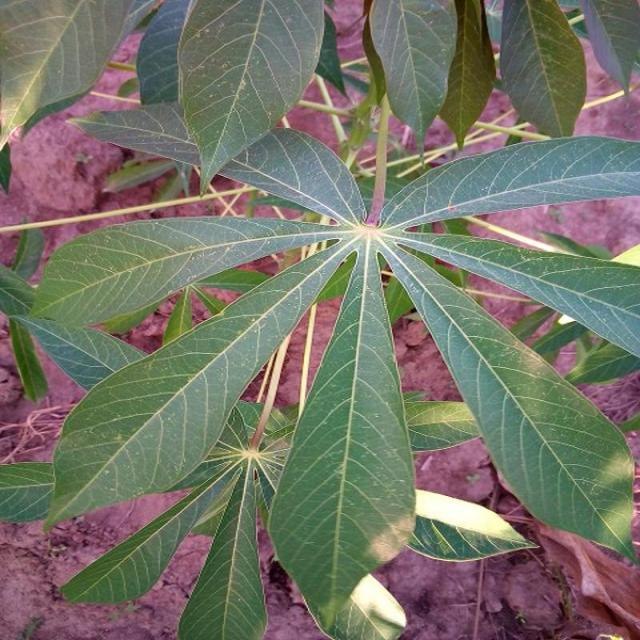cassava leaf: (6, 1, 639, 637), (386, 235, 638, 565), (267, 236, 418, 637), (177, 0, 326, 195)
